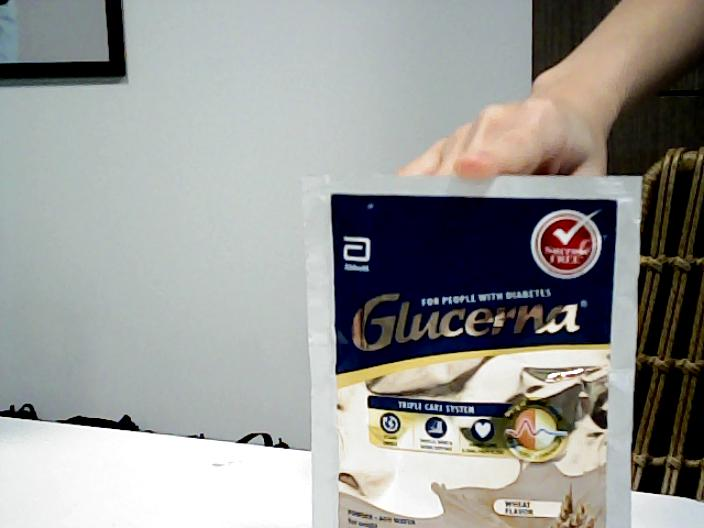Adult_Milk_0-99g_Halal_NonHealthy: (312, 179, 633, 526)
